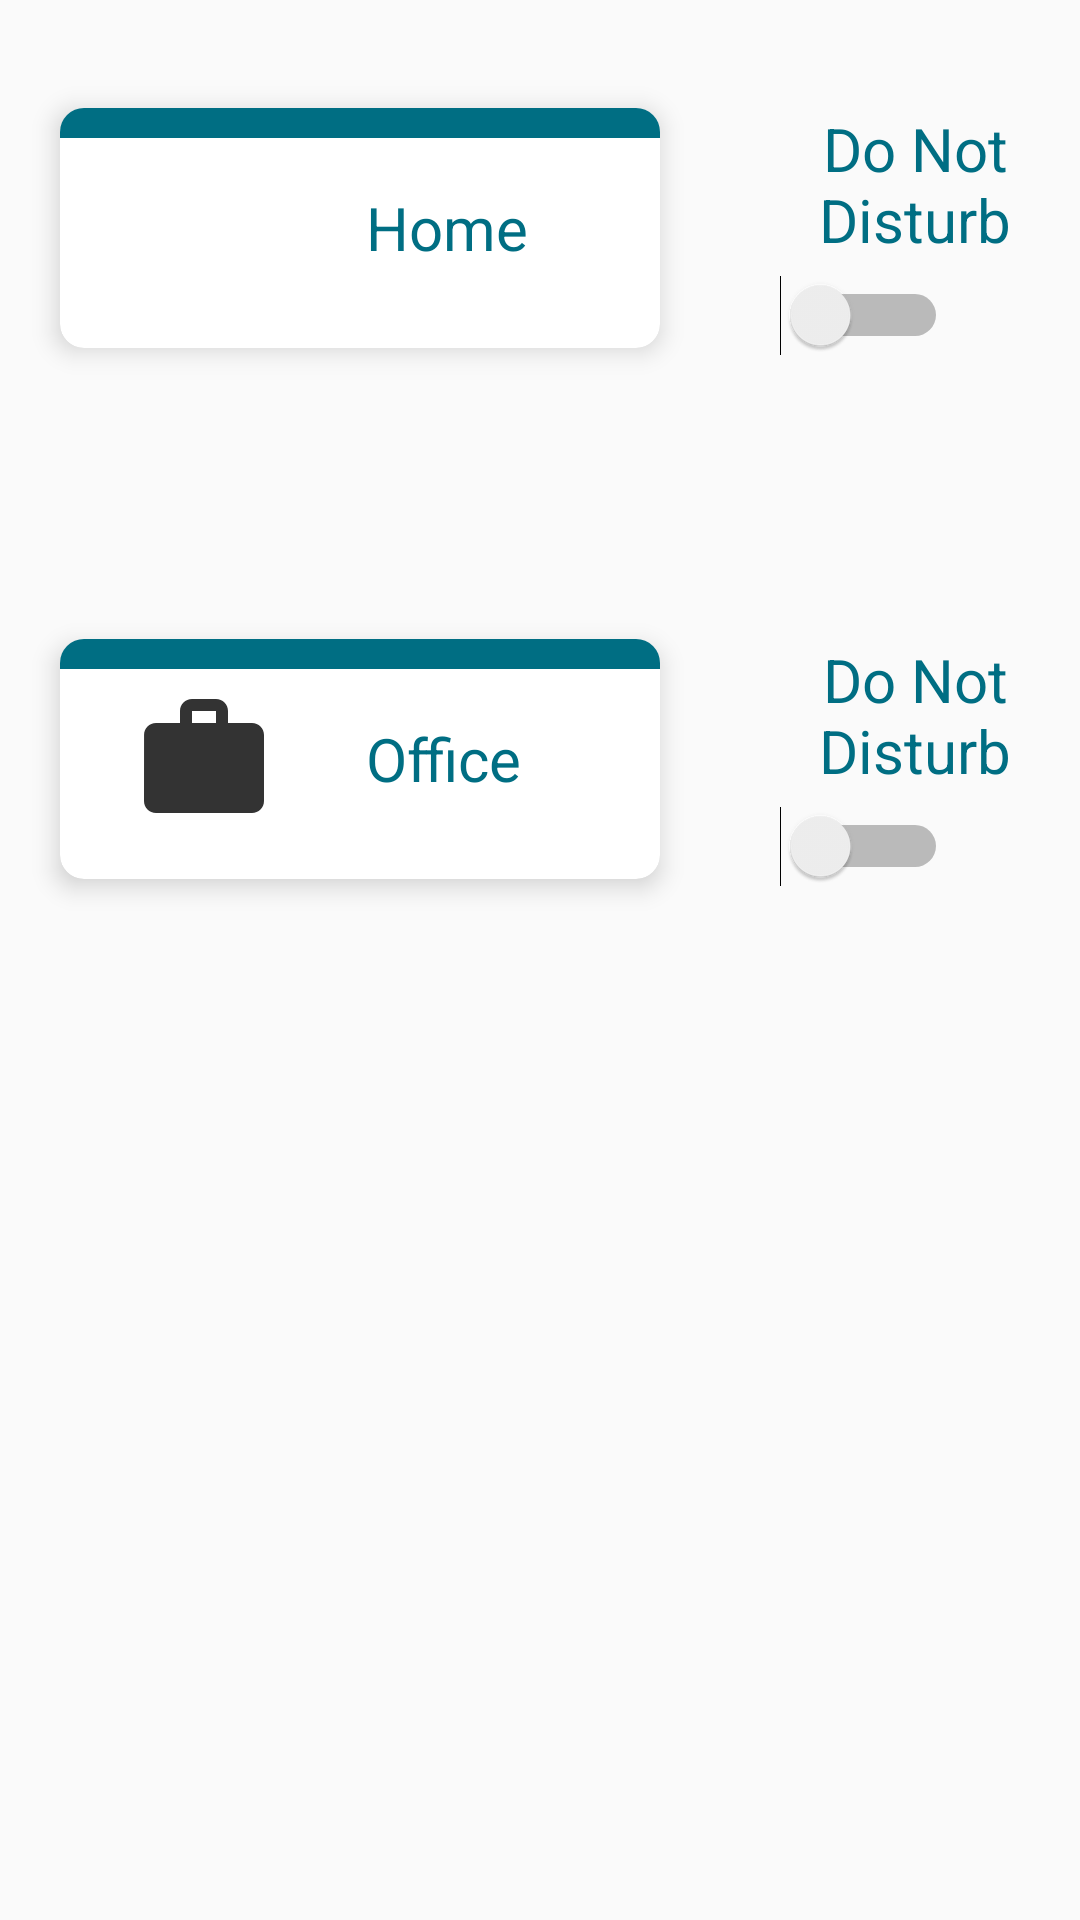

Icons on this 1080x1920 Android screen, each with its box as region(x1, y1, x2, y2):
work: region(144, 699, 264, 813)
